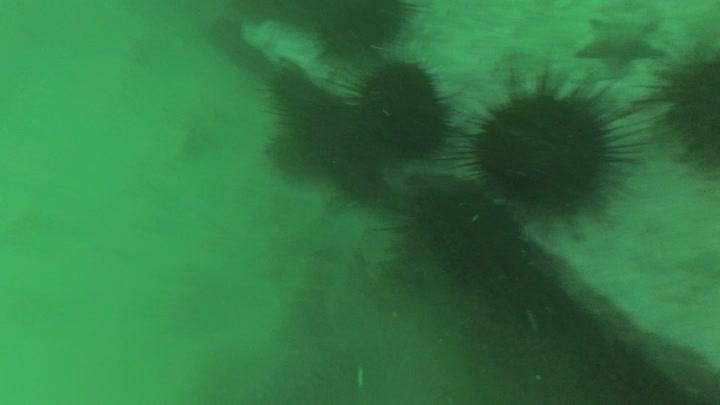urchin: (457, 66, 619, 225), (333, 45, 451, 165), (647, 45, 720, 174)
